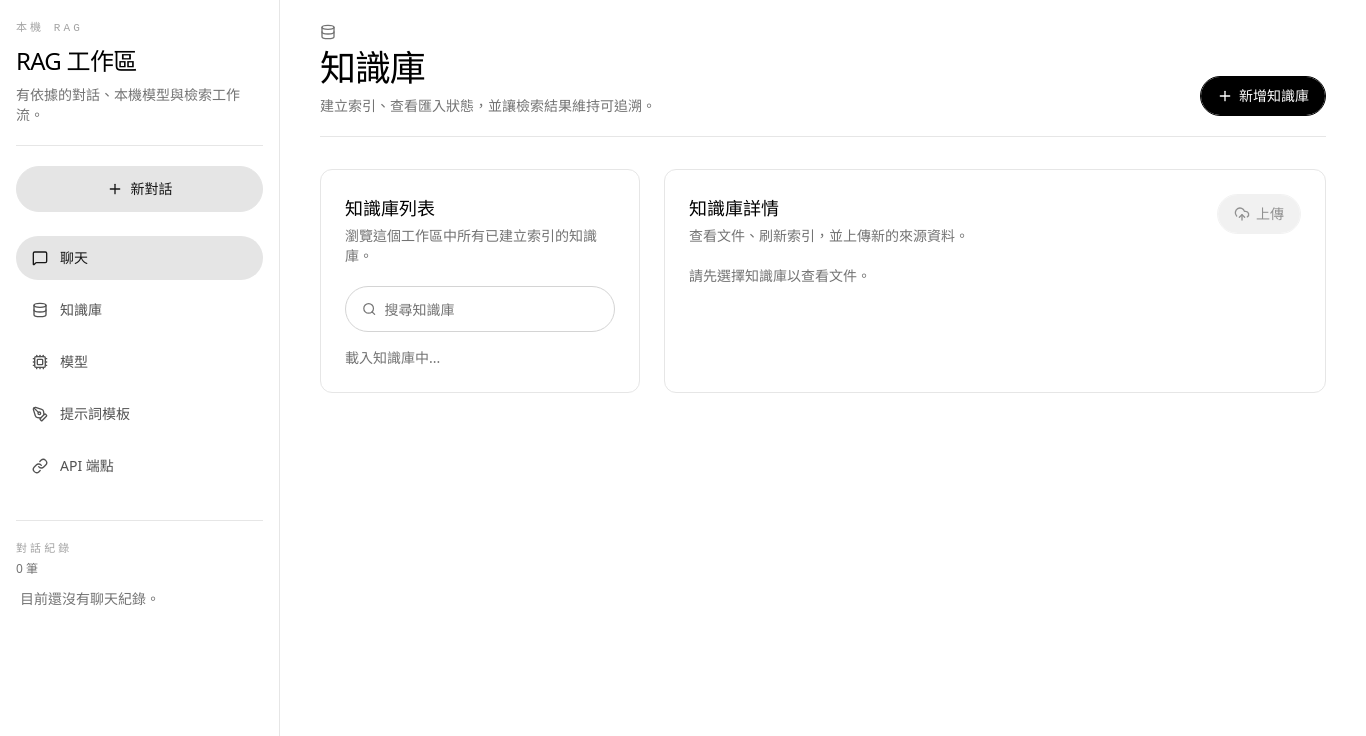
Test case: KnowledgePage › disables knowledge base creation when no embedding models are available
Click the button "新增知識庫": [1263, 96] box [1200, 76, 1326, 116]
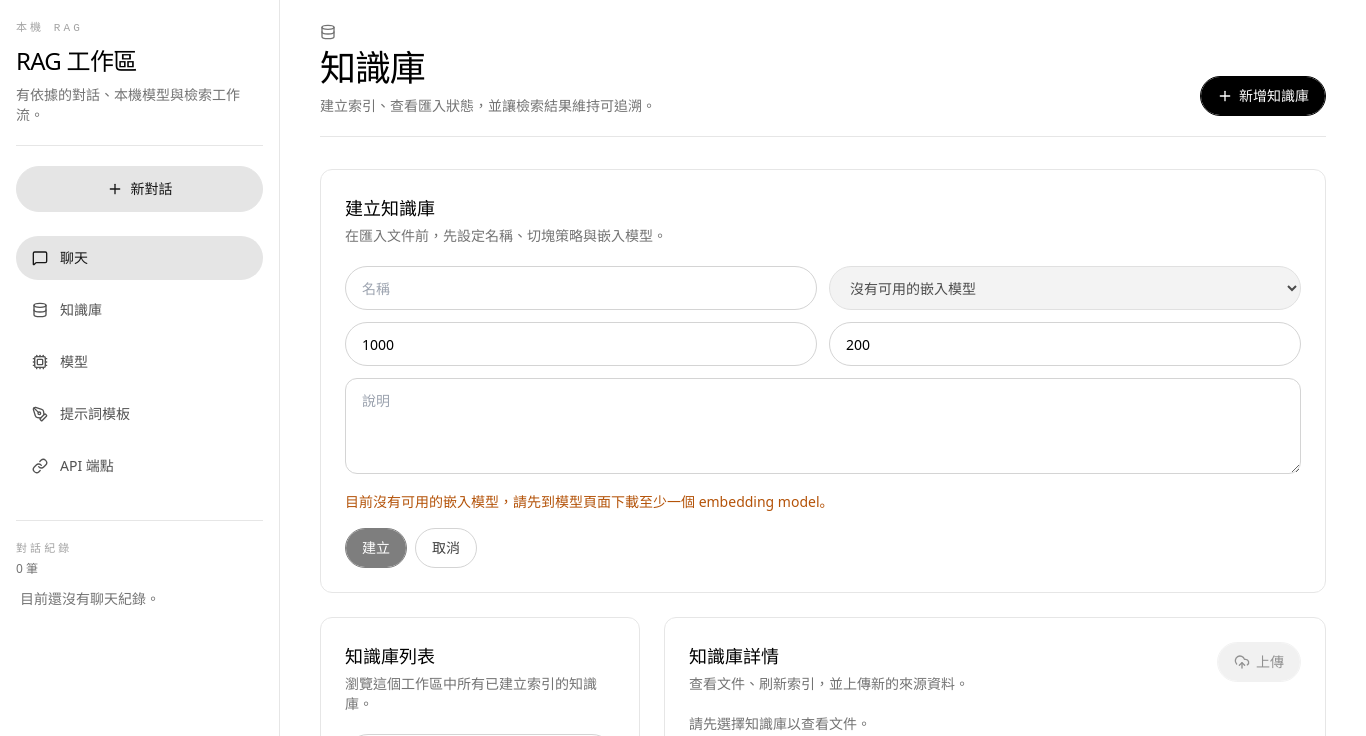
Result: the text "目前沒有可用的嵌入模型，請先到模型頁面下載至少一個 embedding model。" is shown at [345, 492, 834, 511]
Result: the dropdown named "嵌入模型" is disabled at [829, 266, 1301, 310]
Result: the button "建立" is disabled at [345, 528, 407, 568]
